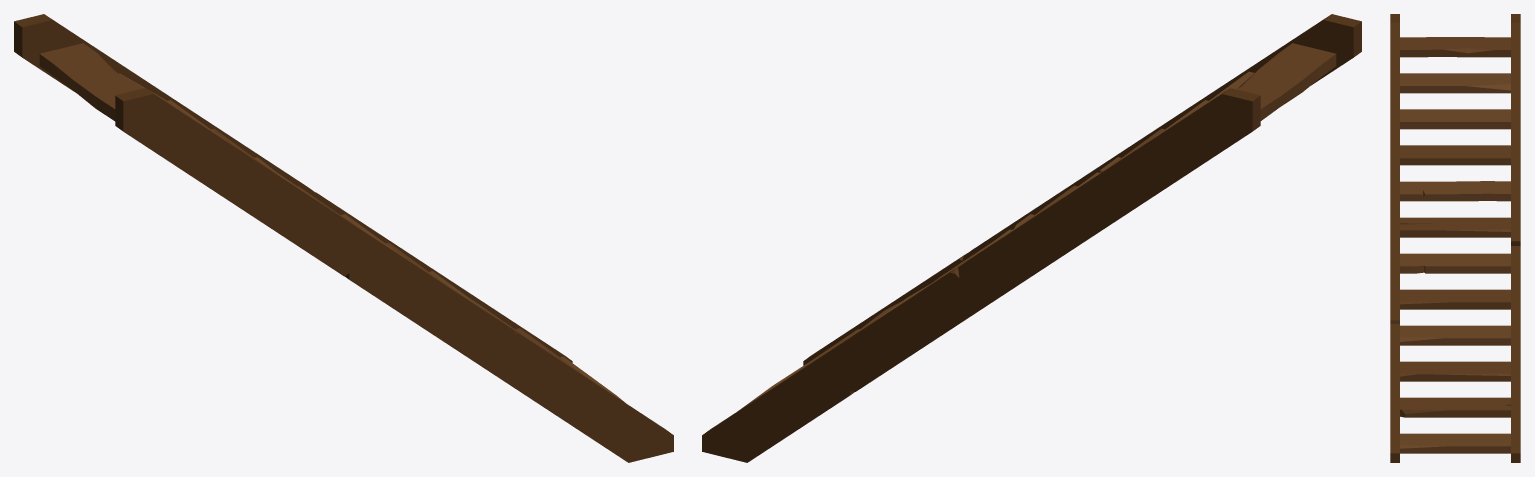
File: Stairs_03.glb
3 renders of one model, left to right at view 1: azimuth 30°, elevation 25°; view 2: azimuth 150°, elevation 25°; view 3: azimuth 270°, elevation 25°, orthographic. The views are drawn at different scales.
Visible parts, largest first — view 1: Stairs_03_LOD0; view 2: Stairs_03_LOD0; view 3: Stairs_03_LOD0.
Part boxes in pixels (x1,y1,x2,y2): Stairs_03_LOD0: [14, 14, 673, 462]; Stairs_03_LOD0: [702, 14, 1361, 462]; Stairs_03_LOD0: [1390, 14, 1520, 462].
Size of what is drawn, in the model's own units: 3.68 by 3.1 by 1.27.
1 material, 1 textured.
